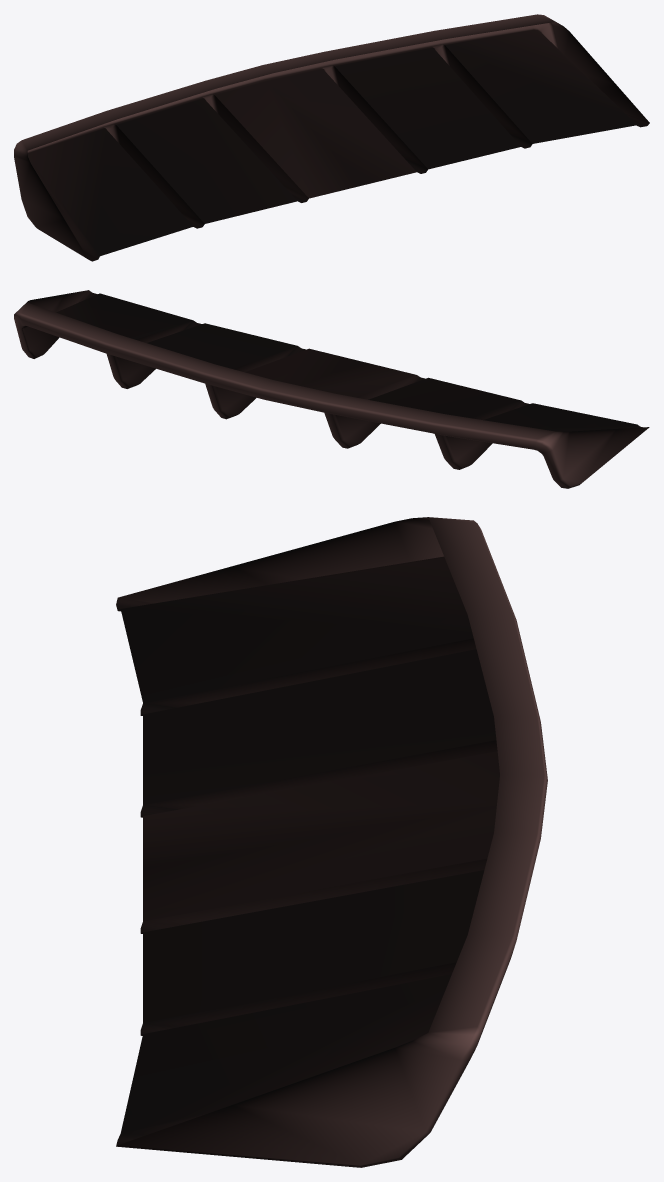
The model's file is Viper_RB_02_Trim.fbx.
3 renders of one model, top to bottom at view 1: azimuth 30°, elevation 25°; view 2: azimuth 150°, elevation 25°; view 3: azimuth 270°, elevation 25°, orthographic. The views are drawn at different scales.
Visible parts, largest first — view 1: Viper_RB_02_Trim; view 2: Viper_RB_02_Trim; view 3: Viper_RB_02_Trim.
Boxes of the visible parts, bbox=[...] form: Viper_RB_02_Trim: bbox=[14, 14, 649, 261]; Viper_RB_02_Trim: bbox=[14, 290, 649, 488]; Viper_RB_02_Trim: bbox=[116, 517, 547, 1167].
Size of the model in its own units: 111 by 12.23 by 37.14.
